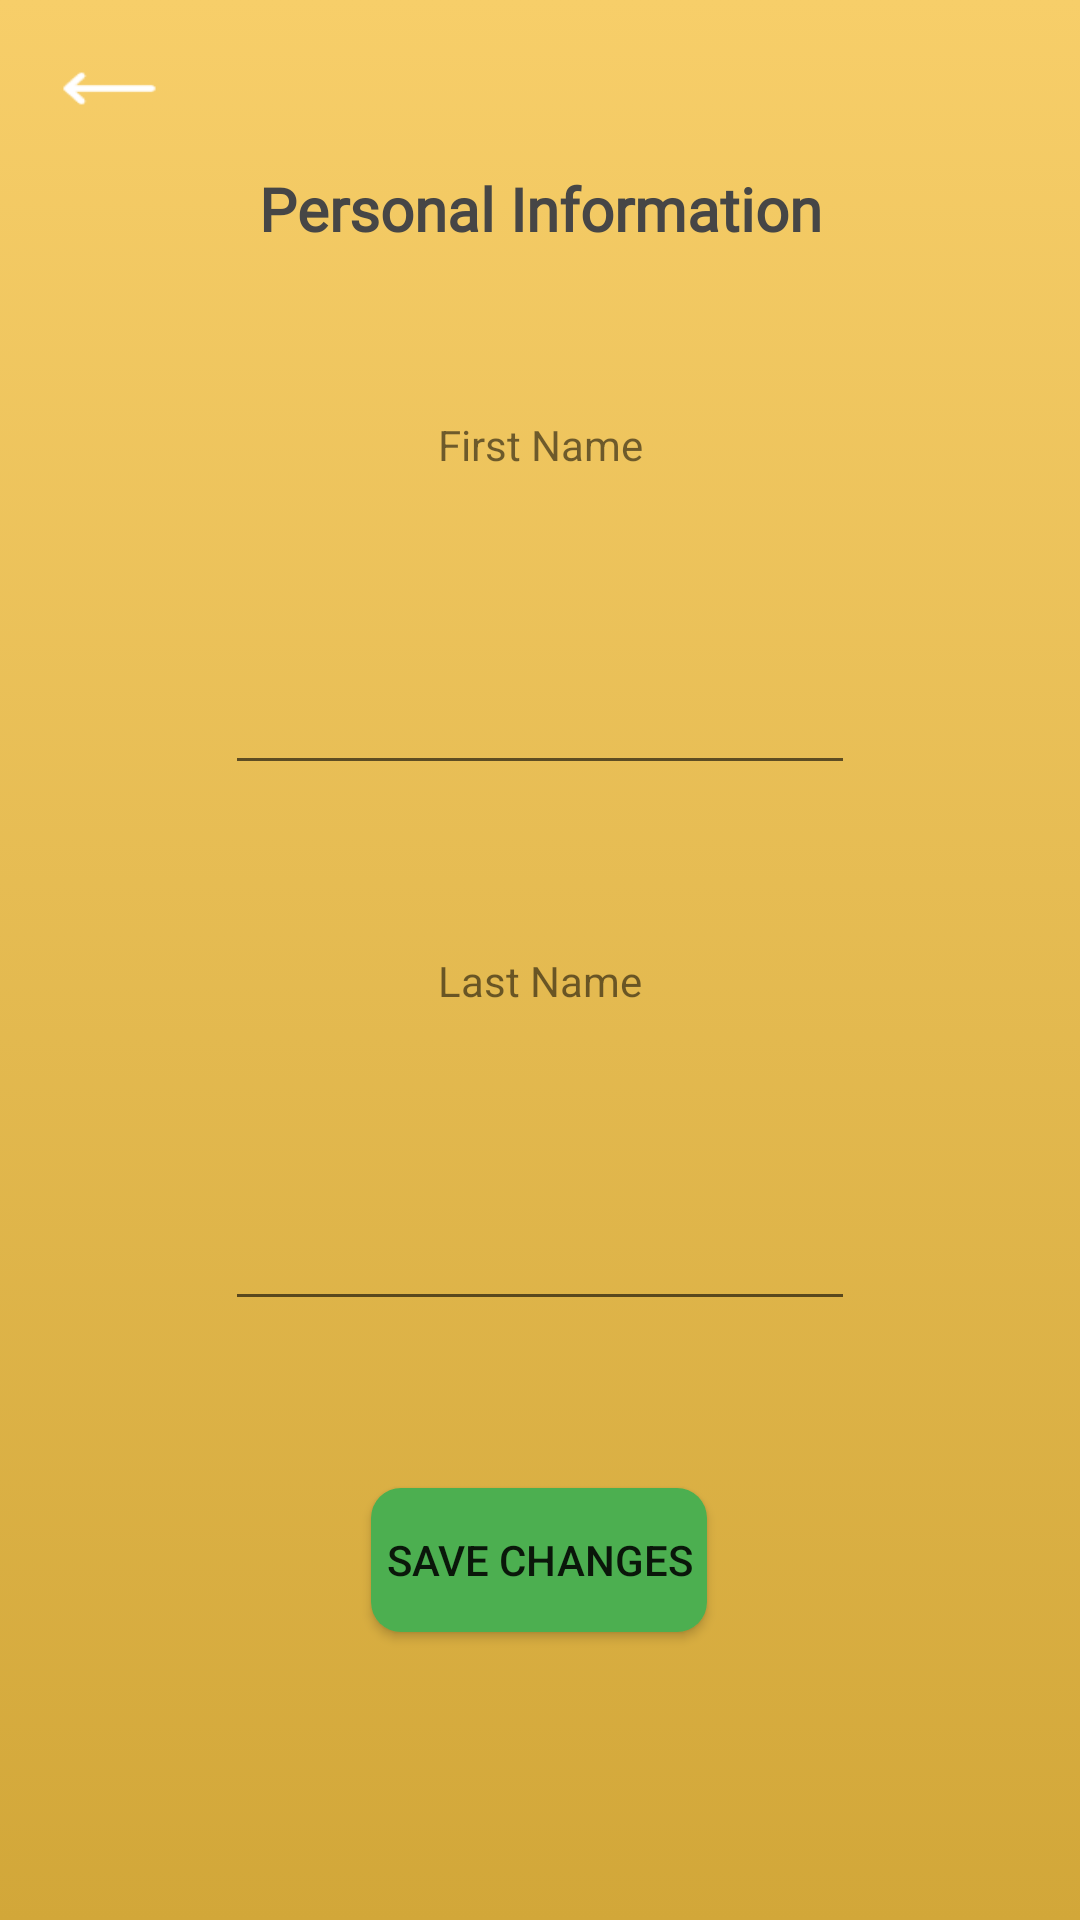

Where to tap for icons on this 1080w x 1920h app screen, as (x=x, y=y):
backarrow: (x=109, y=88)
